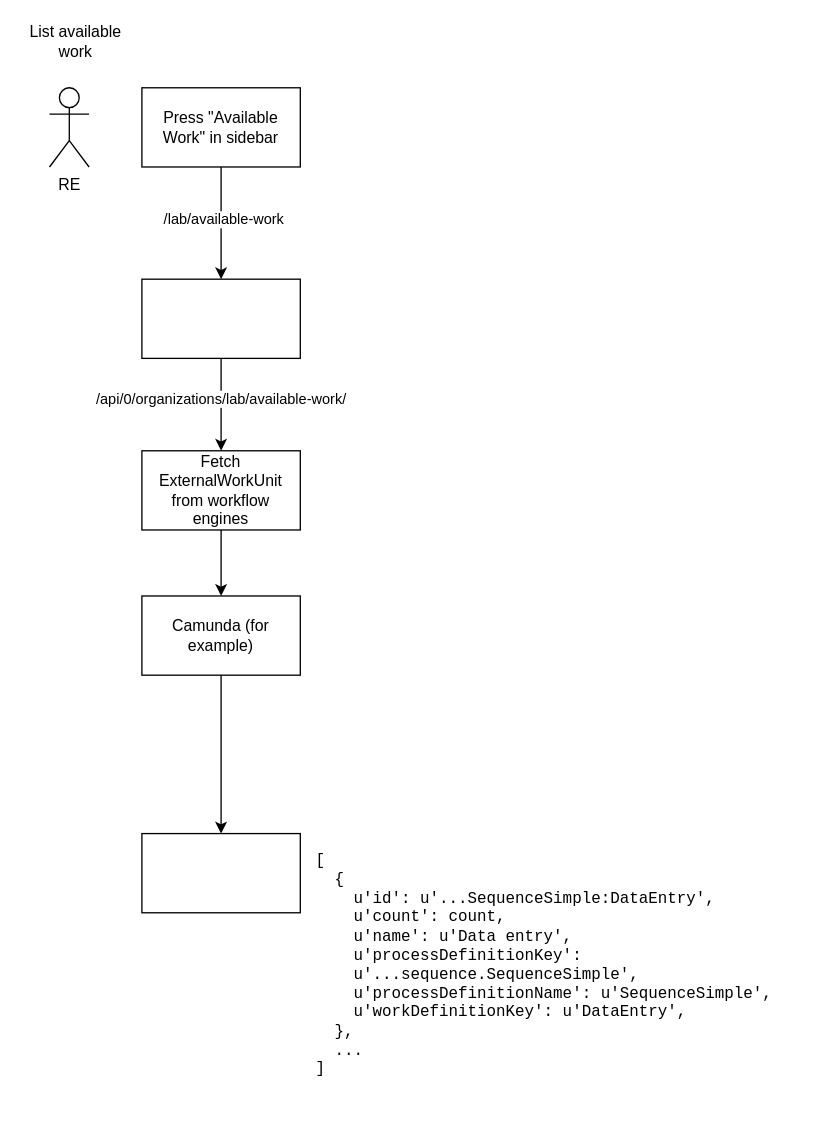
Some shapes in this 824 by 1131 pixel diagram are drawn without their labels. The centre of each missing label's shape, as x and y in pixels:
Fetch list of WorkDefinitions available (plus count): (x=220, y=318)
List WorkDefinitions in the UI: (x=220, y=872)
